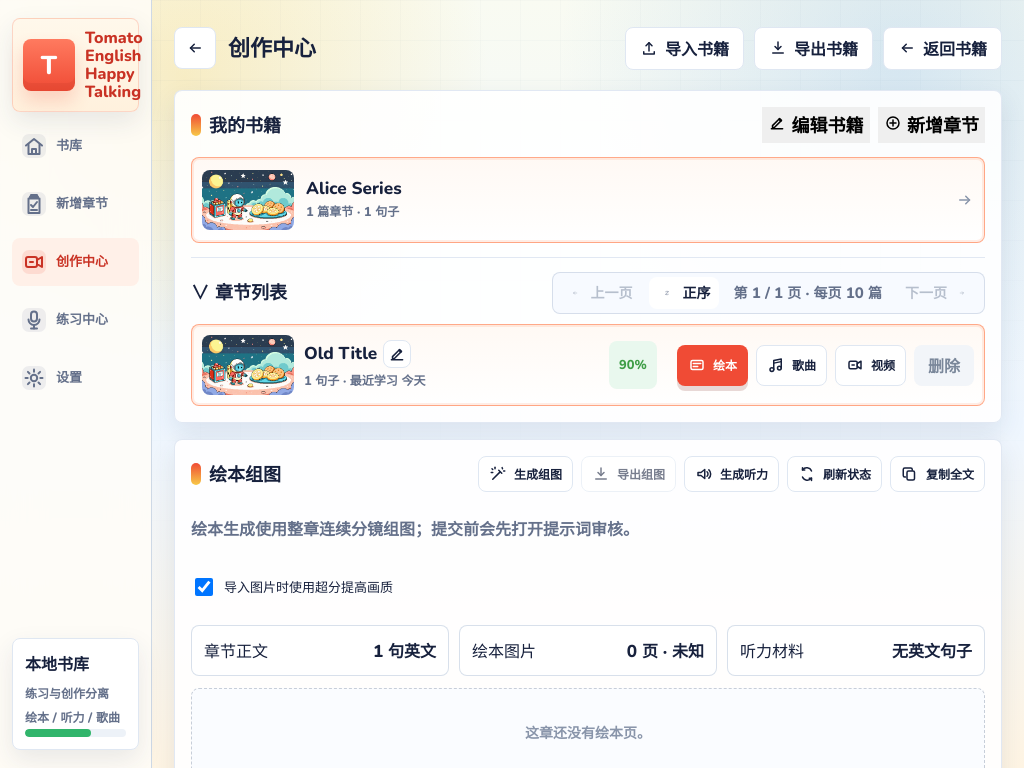
Test: App › edits article titles only from the creation center list
This screenshot has width=1024, height=768.
expect the button "Old Title" is shown: met, box [304,344,377,364]
Click the button named "修改《Old Title》标题" at (397, 354), box [383,340,411,368]
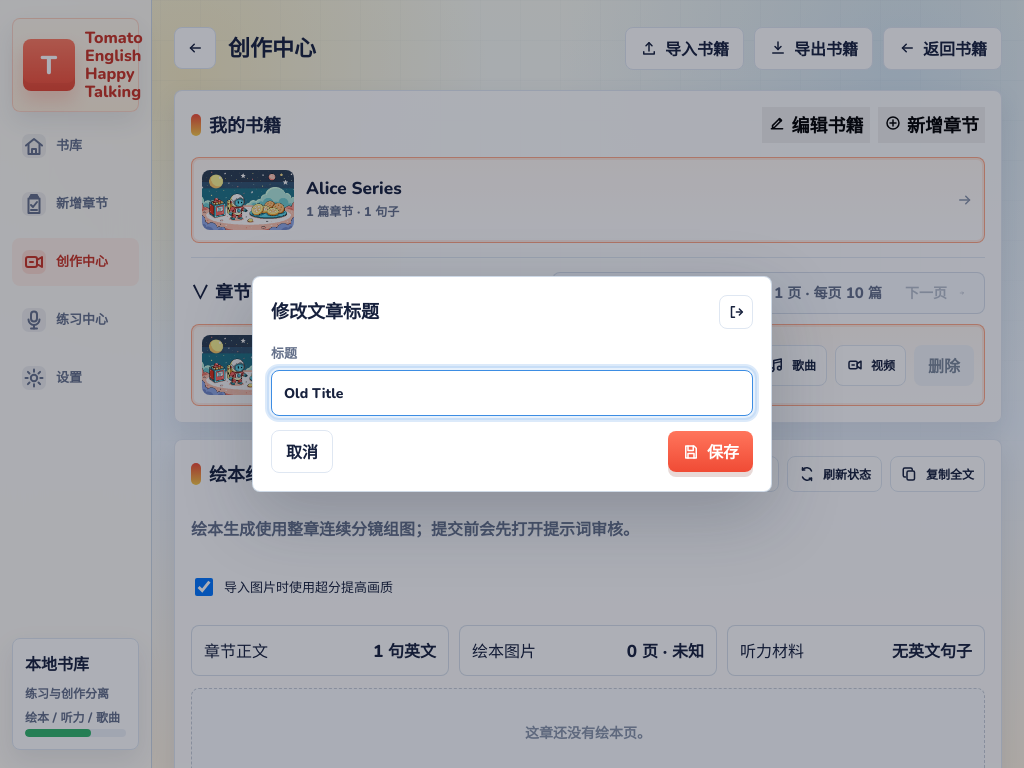
Replace the text in the field labelled "标题" with "New Title" at (512, 393), box [271,370,753,416]
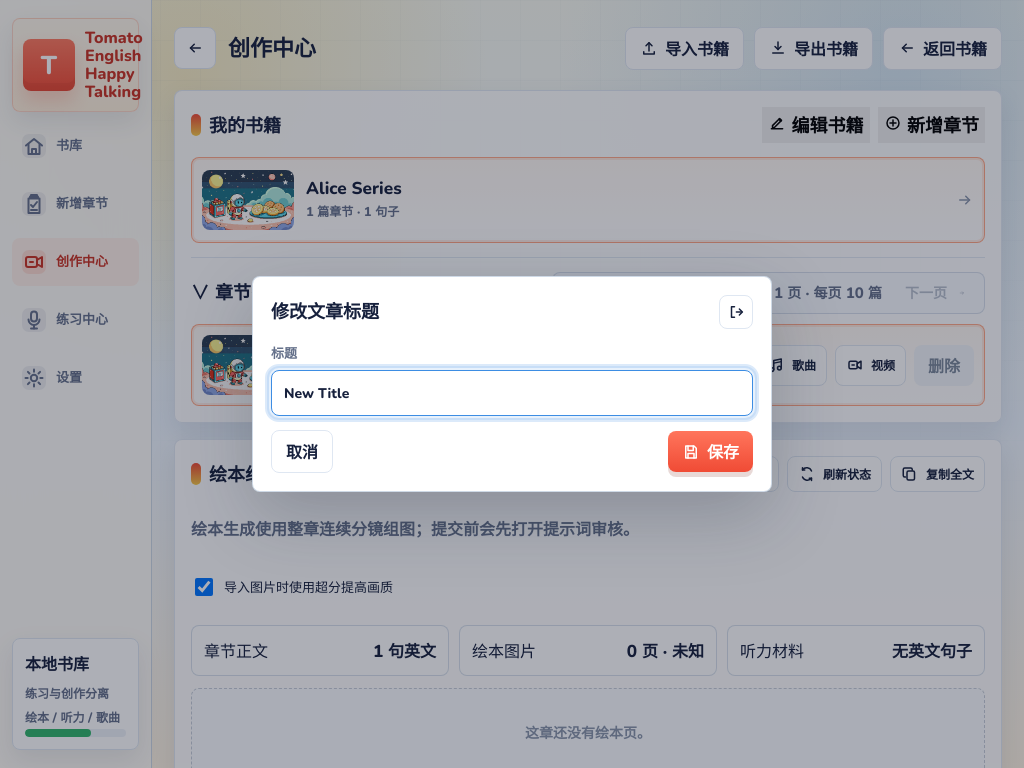
Click the button "保存" at (710, 452), box [668,431,753,472]
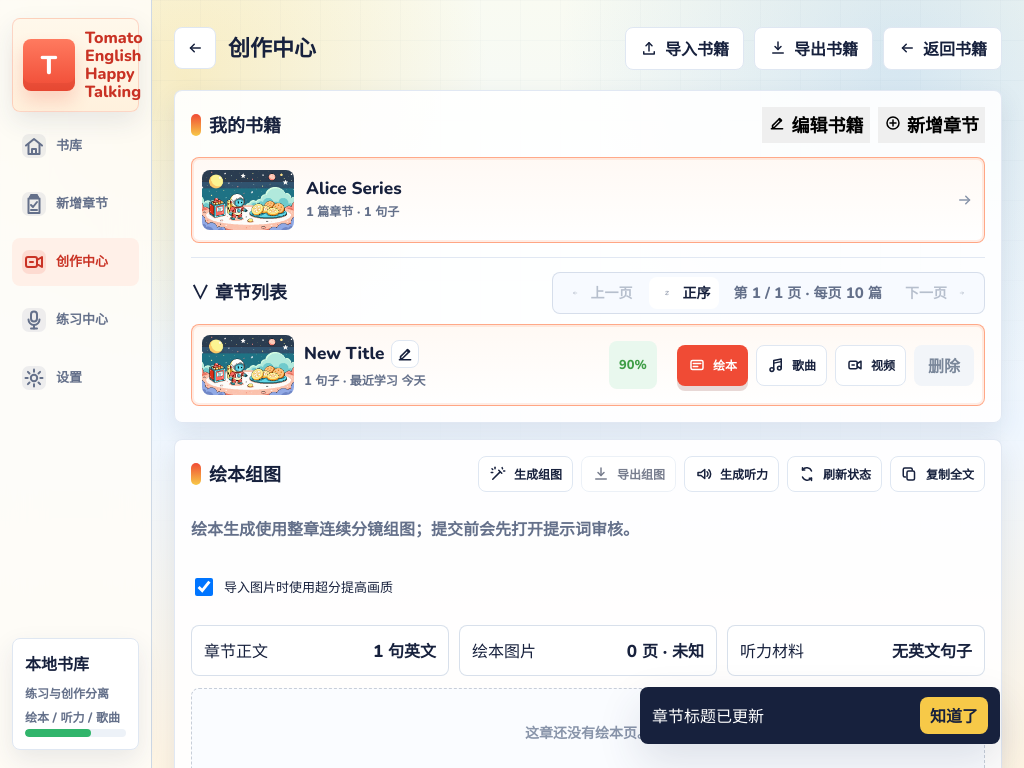
expect the button "New Title" is shown: met, box [304,344,384,364]
